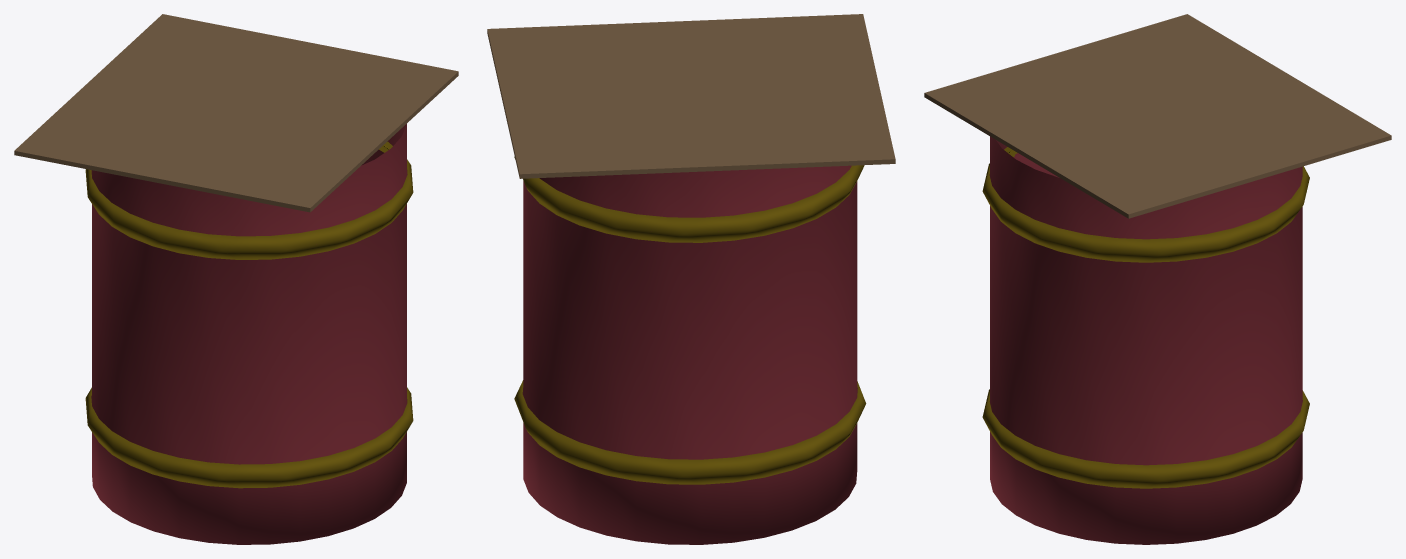
File: barrel2.fbx
3 views of the same model, side by side, from view 1: azimuth 30°, elevation 25°; view 2: azimuth 150°, elevation 25°; view 3: azimuth 270°, elevation 25° (orthographic). The views are drawn at different scales.
Visible parts, largest first — view 1: Cylinder.005, Cube, Cylinder.004, Cylinder.003; view 2: Cylinder.005, Cube, Cylinder.003, Cylinder.004; view 3: Cylinder.005, Cube, Cylinder.004, Cylinder.003.
Boxes of the visible parts, bbox=[...] form: Cylinder.005: bbox=[91, 124, 407, 544]; Cube: bbox=[14, 14, 458, 212]; Cylinder.004: bbox=[85, 141, 413, 259]; Cylinder.003: bbox=[85, 387, 413, 488]; Cylinder.005: bbox=[522, 165, 857, 544]; Cube: bbox=[487, 14, 895, 178]; Cylinder.003: bbox=[514, 380, 866, 484]; Cylinder.004: bbox=[514, 156, 864, 242]; Cylinder.005: bbox=[989, 136, 1302, 544]; Cube: bbox=[924, 14, 1391, 218]; Cylinder.004: bbox=[982, 147, 1309, 262]; Cylinder.003: bbox=[982, 389, 1309, 488].
Size of the model in its own units: 520 by 437 by 512.
